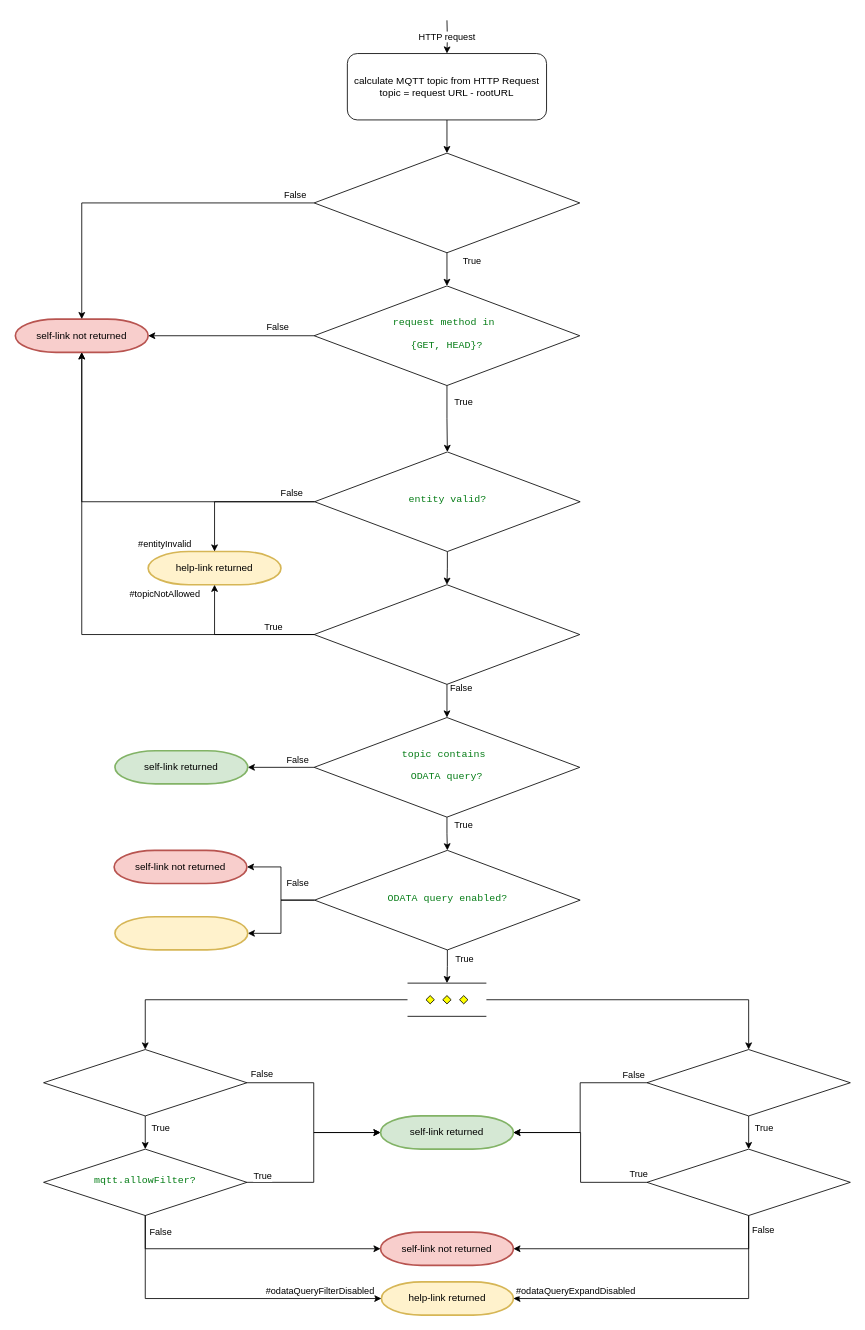
Image size: 865x1330. Some labels were removed from this diagram. The centre of each missing label's shape, as x and y in pixels:
"help-link returned #odataQueryDisabled" goes at (x=181, y=932).
"MQTT topic in plugins.websub.topicsDenied?" goes at (x=446, y=634).
"mqtt.allowExpand?" goes at (x=748, y=1182).
"ODATA query contains $expand?" goes at (x=748, y=1082).
"ODATA query contains $filter?" goes at (x=145, y=1082).
"plugins.websub.enable?" goes at (x=446, y=202).
